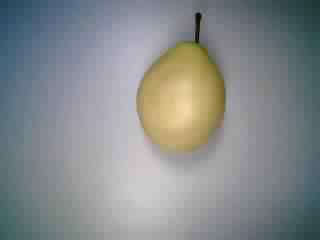pear: (112, 10, 252, 159)
